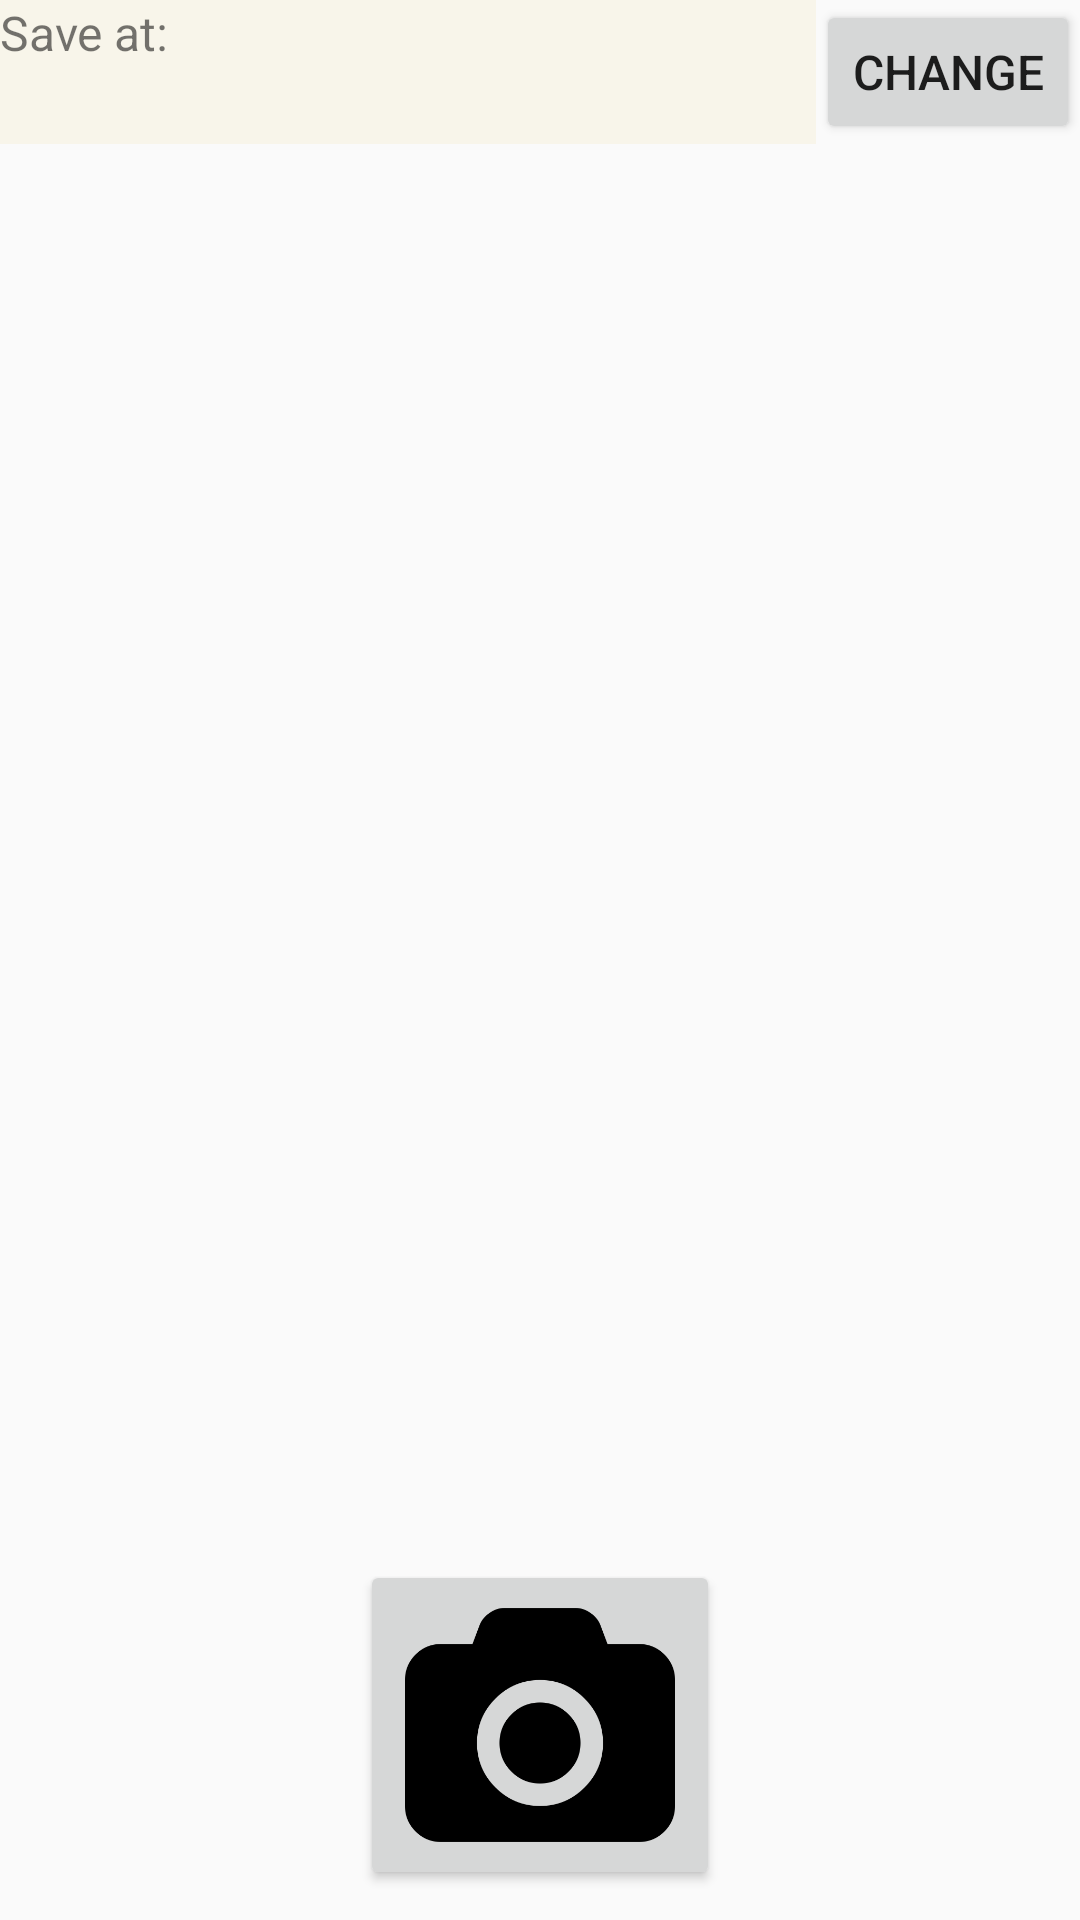

Icons on this 1080*1920 Android screen, each with the point to tap as point (x, y):
camera: point (540, 1725)
